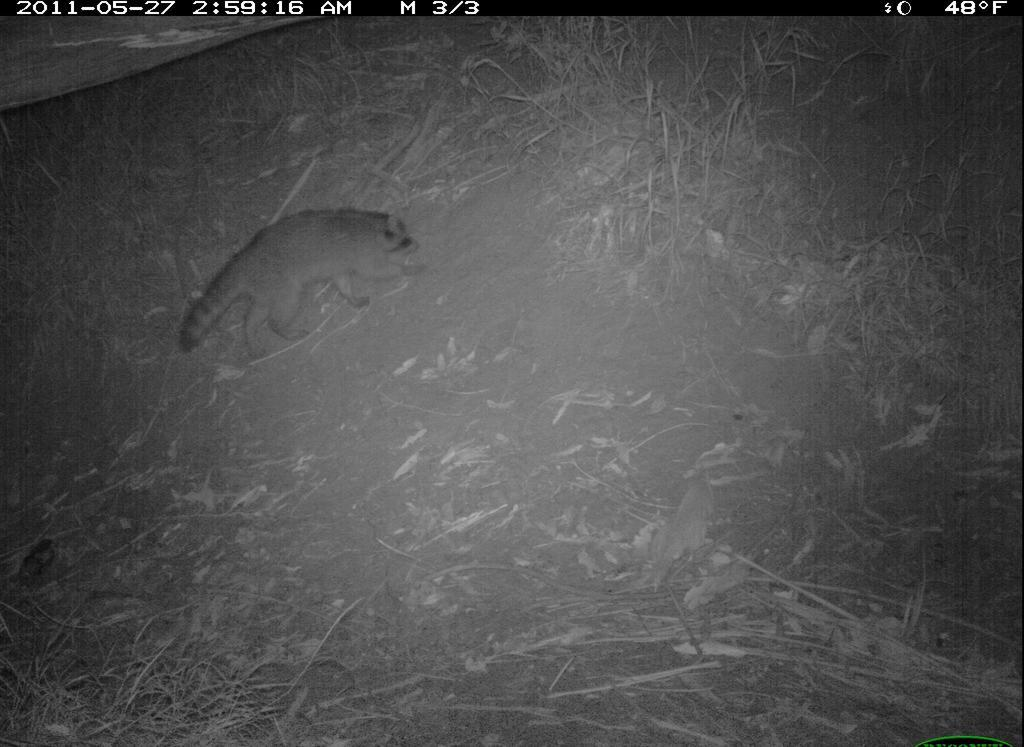raccoon: (161, 193, 425, 364)
